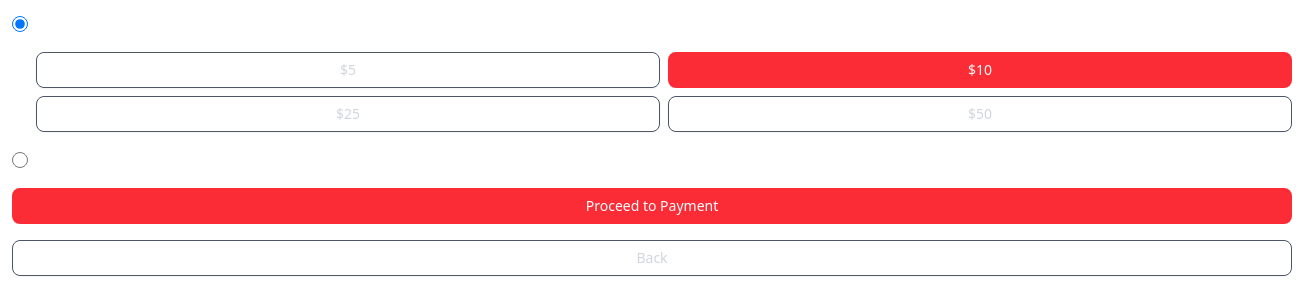
Scenario: DonationCheckout › should switch to custom amount input
This screenshot has width=1304, height=293.
Click the radio button labelled "Custom One-off Amount".
click(20, 160)  # box [12,152,28,168]
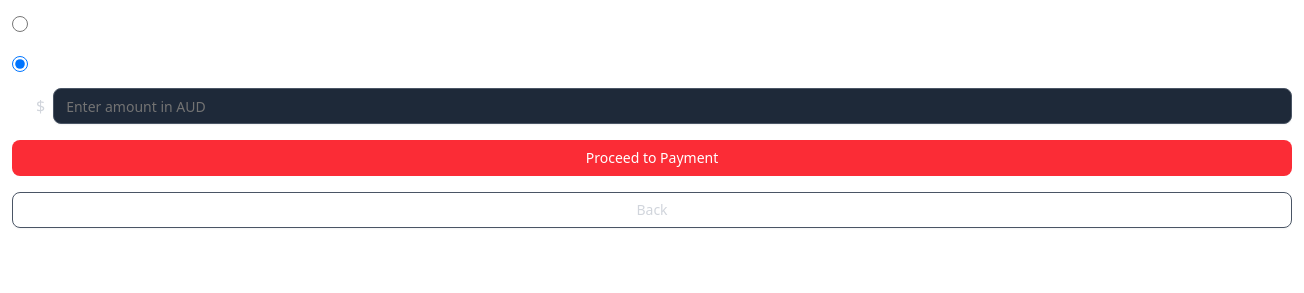
Check: the number field with placeholder "Enter amount in AUD" is shown, box [53,88,1292,124]
